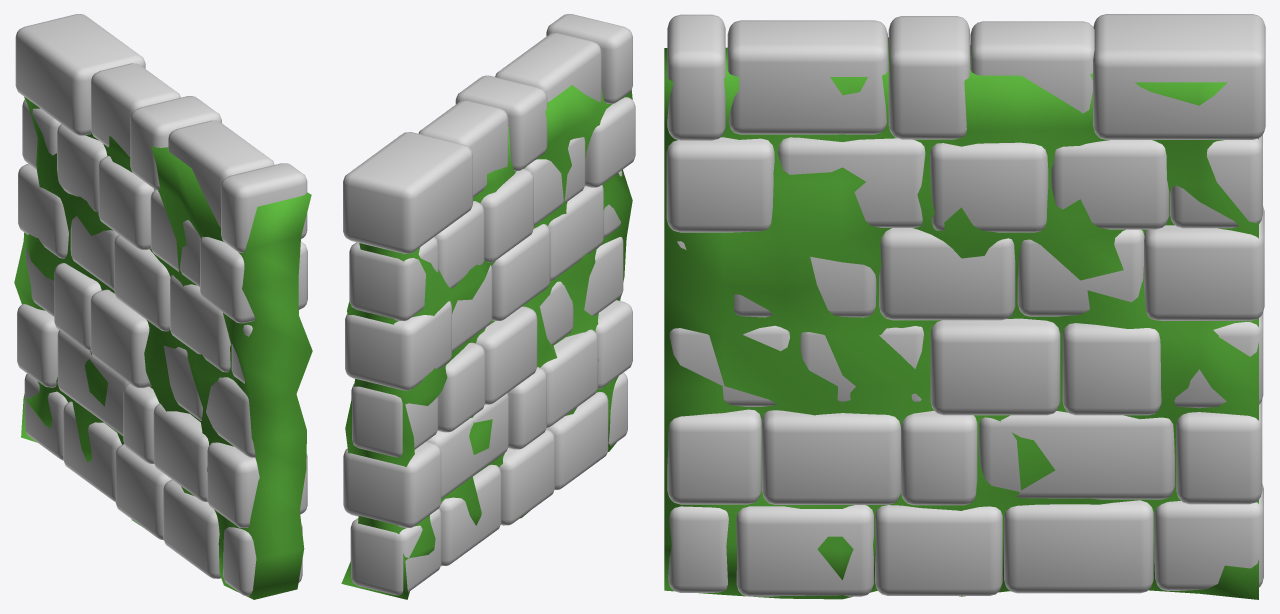
File: walls_full_future.fbx
3 views of the same model, side by side, from view 1: azimuth 30°, elevation 25°; view 2: azimuth 150°, elevation 25°; view 3: azimuth 270°, elevation 25° (orthographic). The views are drawn at different scales.
Parts seen in each view (by area): view 1: Cube.013; view 2: Cube.013; view 3: Cube.013.
Boxes of the visible parts, bbox=[...] form: Cube.013: bbox=[14, 14, 312, 599]; Cube.013: bbox=[341, 14, 635, 599]; Cube.013: bbox=[664, 14, 1265, 599].
Bounding box in the file's own units: 0.3949 × 1.84 × 1.84.
